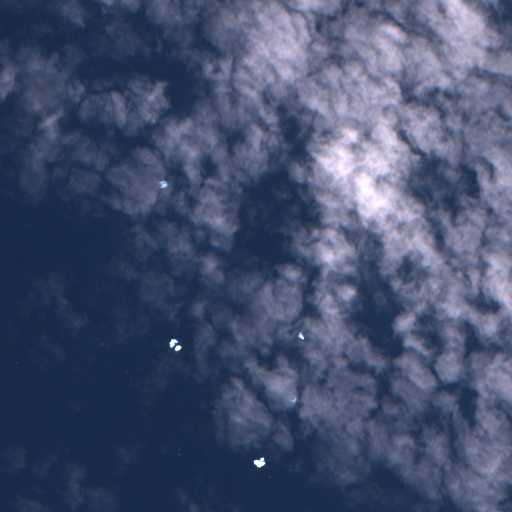Iceberg: (253, 457, 265, 467), (169, 339, 177, 347), (158, 181, 167, 187), (174, 345, 181, 351), (298, 332, 303, 339), (291, 398, 295, 403), (178, 454, 179, 455), (289, 469, 290, 470), (269, 476, 270, 477)
